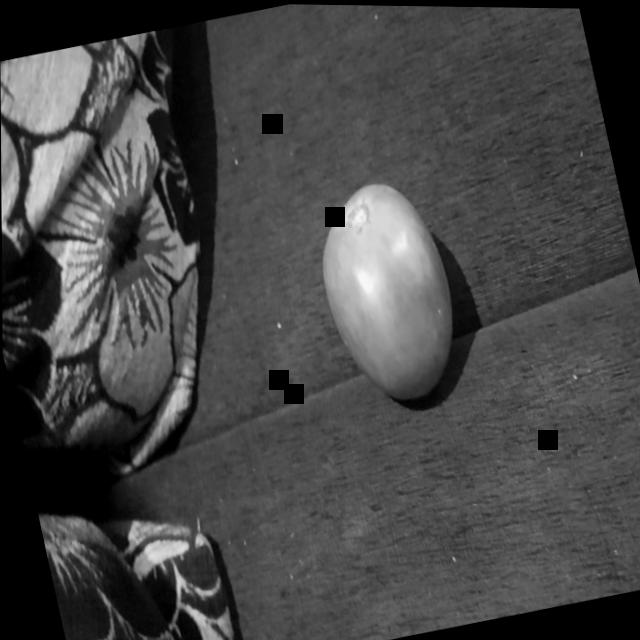tomato: (286, 155, 496, 422)
